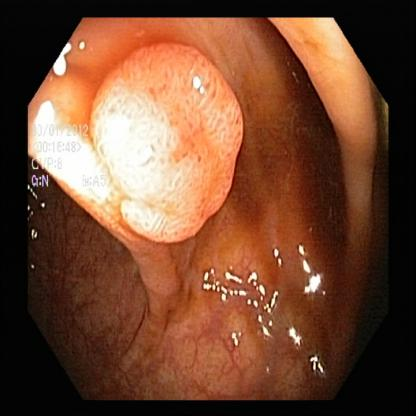Labels: (25, 116, 110, 187)
Polyps: (99, 50, 254, 219)
